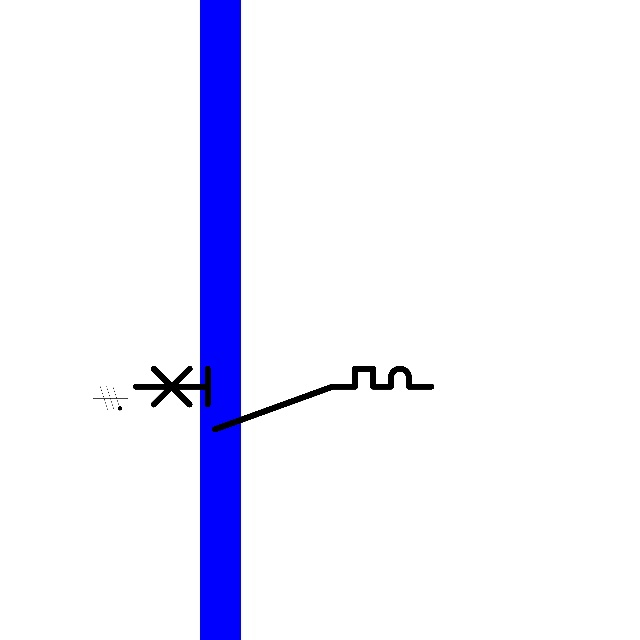interruptor_termomagnetico: (128, 361, 438, 437)
